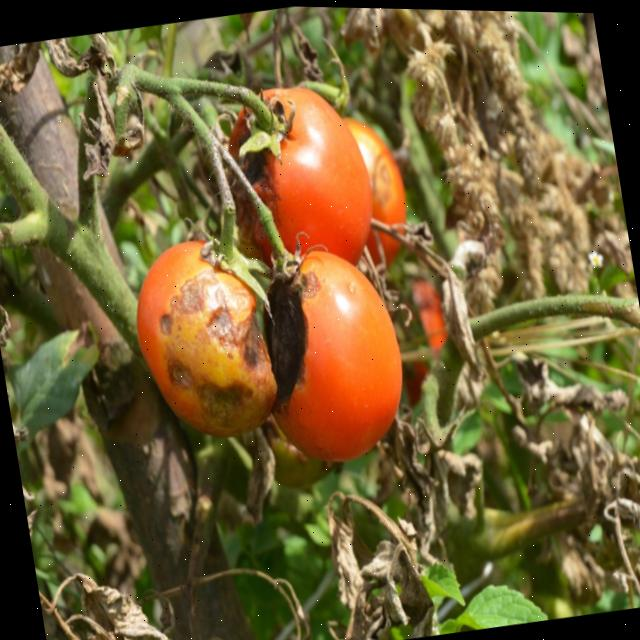damaged: (120, 207, 292, 454), (246, 225, 411, 480), (204, 64, 386, 276)
